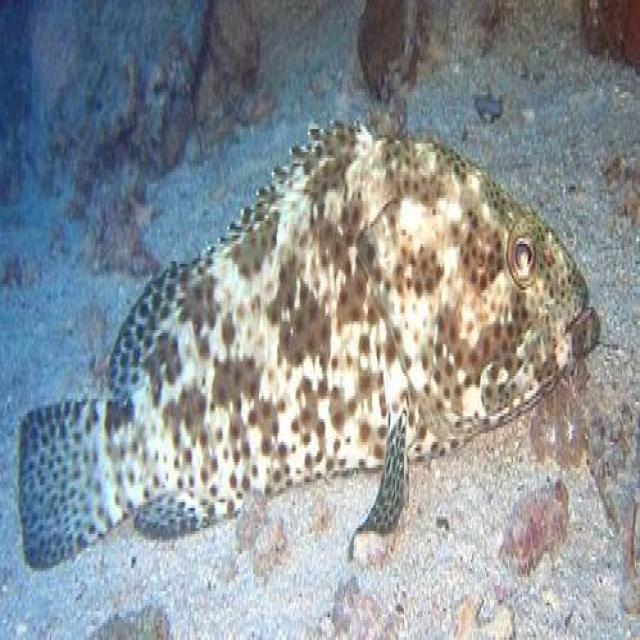ikan: (20, 89, 608, 585)
